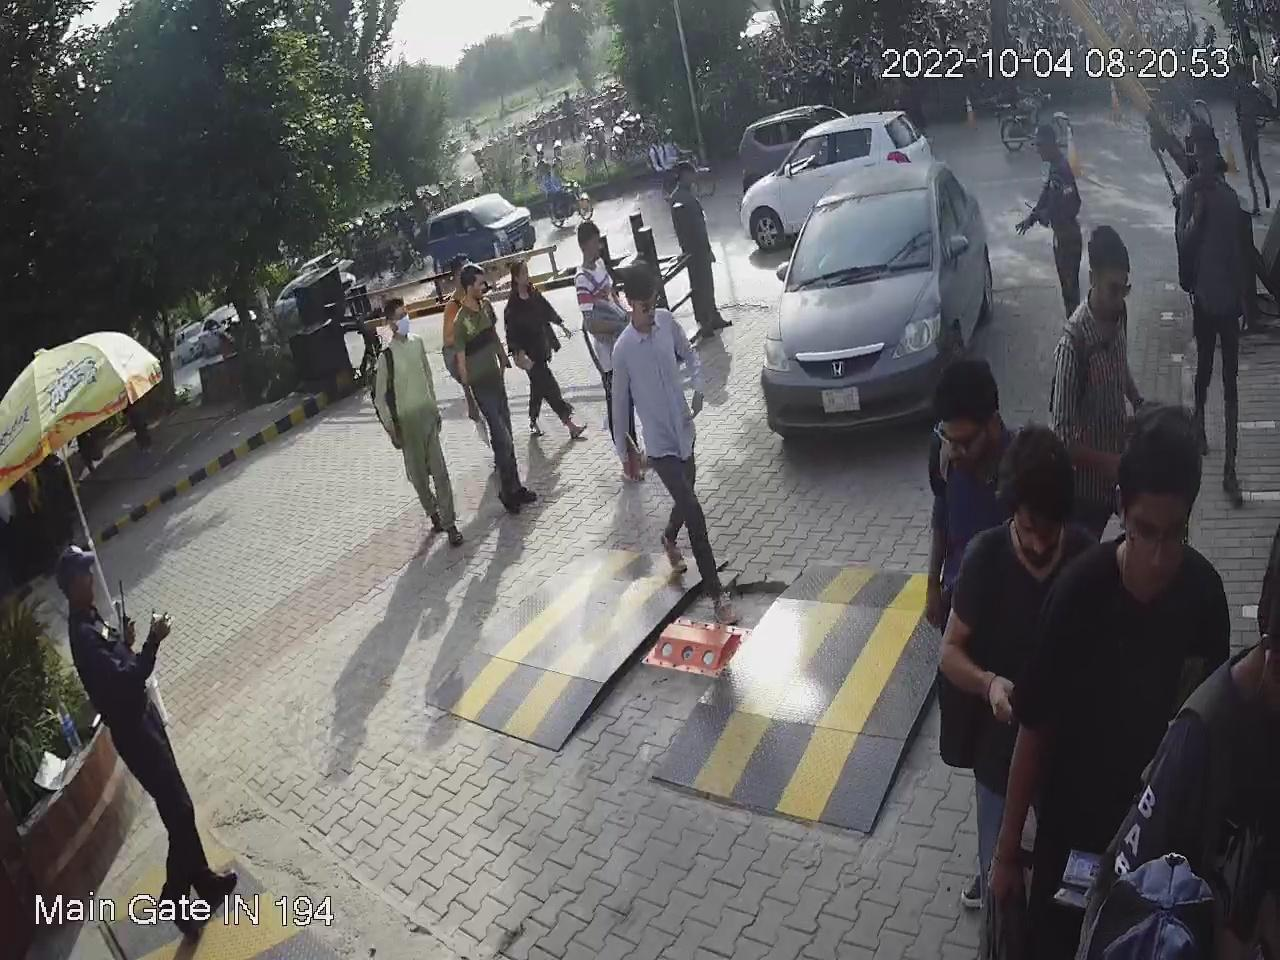windshield: (783, 177, 938, 290)
